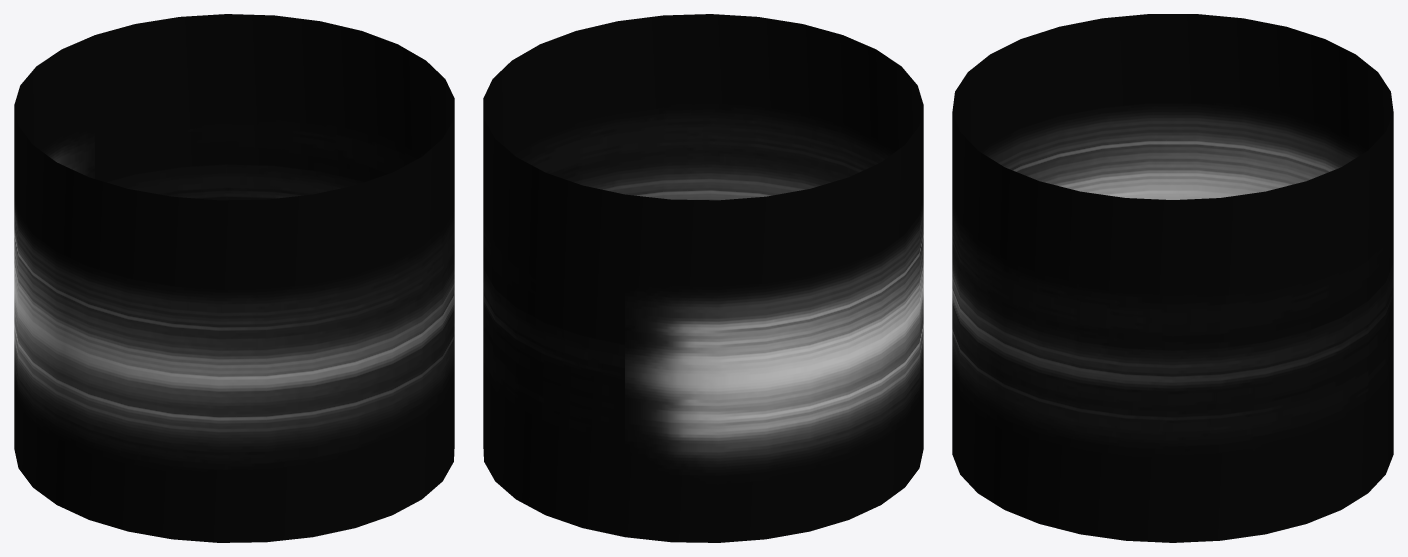
The model's file is 0151_SkillB_Mesh_01.glb.
The picture shows the model from 3 angles, left to right: view 1: azimuth 30°, elevation 25°; view 2: azimuth 150°, elevation 25°; view 3: azimuth 270°, elevation 25°; orthographic projection.
Size of the model in its own units: 2.2 by 1.89 by 2.2.
1 material, 1 textured.
